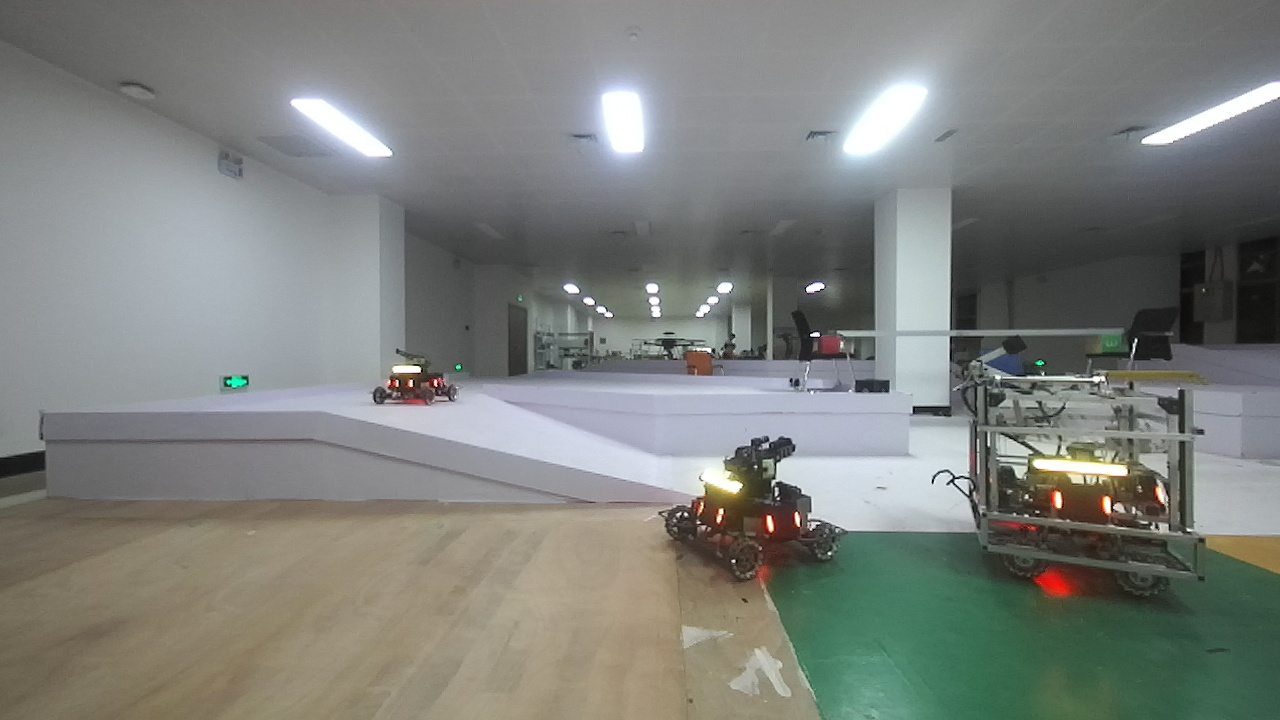car: (944, 366, 1214, 610), (655, 424, 844, 598), (359, 348, 471, 418)
